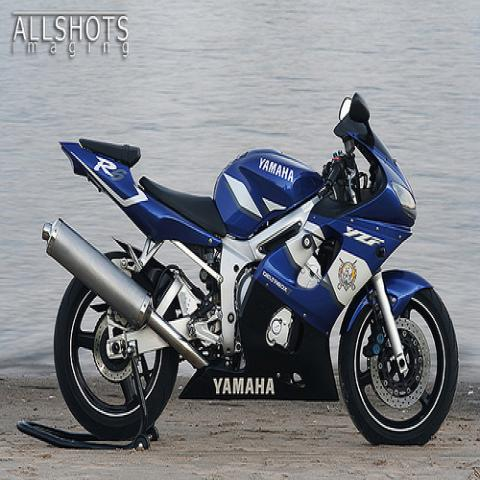motorcycle: (42, 95, 461, 449)
